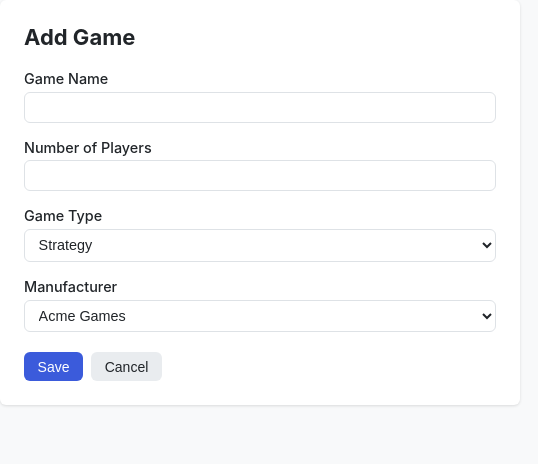
Test: GameForm › shows error when name is empty on submit
The width and height of the screenshot is (538, 464).
Click the button "Save" at (54, 367), box [24,352,83,381]
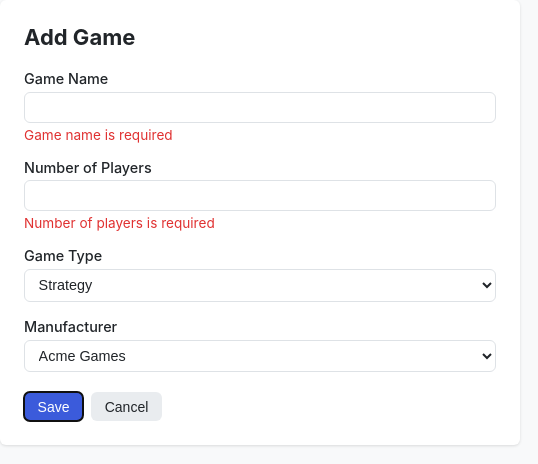
Expected: the text "Game name is required" is shown, [24,127,173,143]
